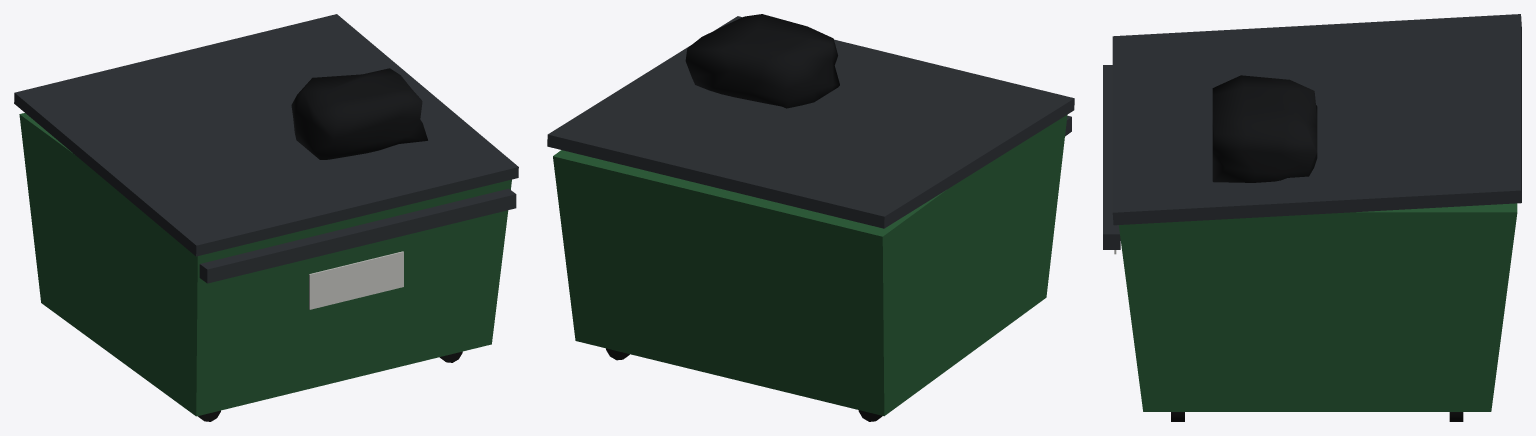
The model's file is cg-dumpster.glb.
3 views of the same model, side by side, from view 1: azimuth 30°, elevation 25°; view 2: azimuth 150°, elevation 25°; view 3: azimuth 270°, elevation 25° (orthographic). The views are drawn at different scales.
Visible parts, largest first — view 1: cg-dumpster; view 2: cg-dumpster; view 3: cg-dumpster.
Boxes of the visible parts, bbox=[...] form: cg-dumpster: bbox=[14, 14, 518, 421]; cg-dumpster: bbox=[547, 14, 1074, 421]; cg-dumpster: bbox=[1103, 14, 1521, 421].
Bounding box in the file's own units: 2.4 × 1.83 × 2.41.
